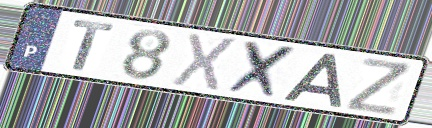8: (117, 26, 175, 83)
A: (280, 51, 344, 109)
T: (71, 18, 117, 73)
X: (224, 39, 301, 102), (169, 31, 241, 94)
Z: (344, 56, 414, 118)
